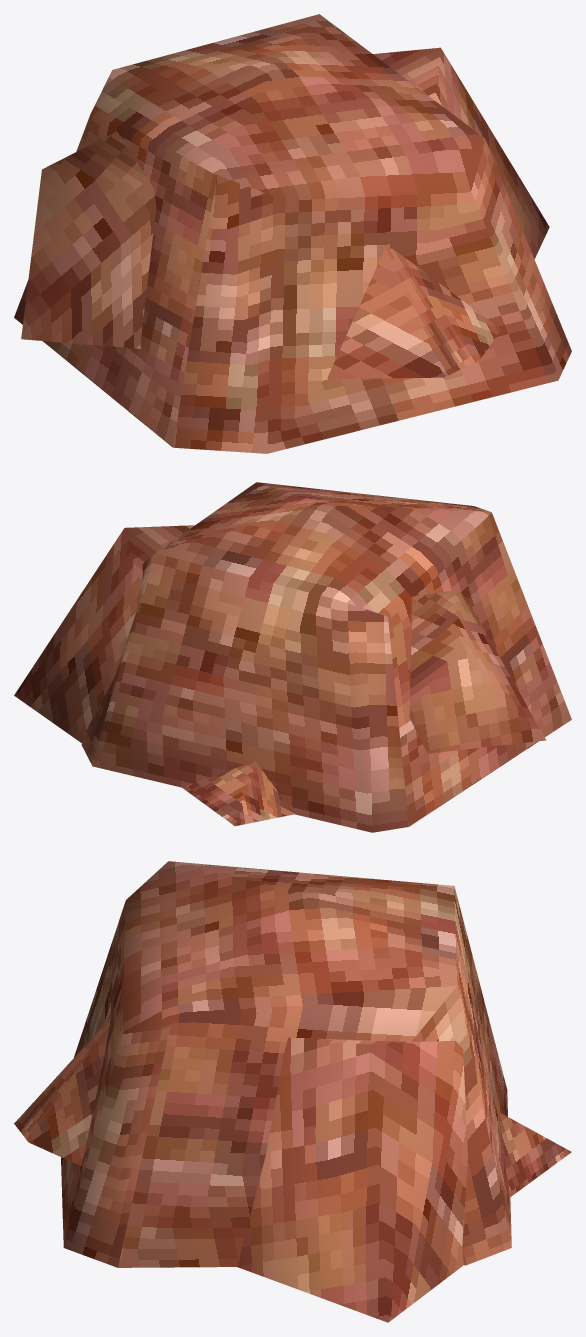
The model's file is F2_Item_Foods_Wet.dae.
3 views of the same model, one above another, from view 1: azimuth 30°, elevation 25°; view 2: azimuth 150°, elevation 25°; view 3: azimuth 270°, elevation 25° (orthographic). The views are drawn at different scales.
Parts seen in each view (by area): view 1: vsn_mesh_0_; view 2: vsn_mesh_0_; view 3: vsn_mesh_0_.
Part boxes in pixels (<box>): vsn_mesh_0_: <box>14,14,571,453</box>; vsn_mesh_0_: <box>14,482,571,832</box>; vsn_mesh_0_: <box>14,861,571,1322</box>.
Size of the model in its own units: 1.06 by 0.4758 by 0.8871.
Materials: 1 (1 with a texture image).
